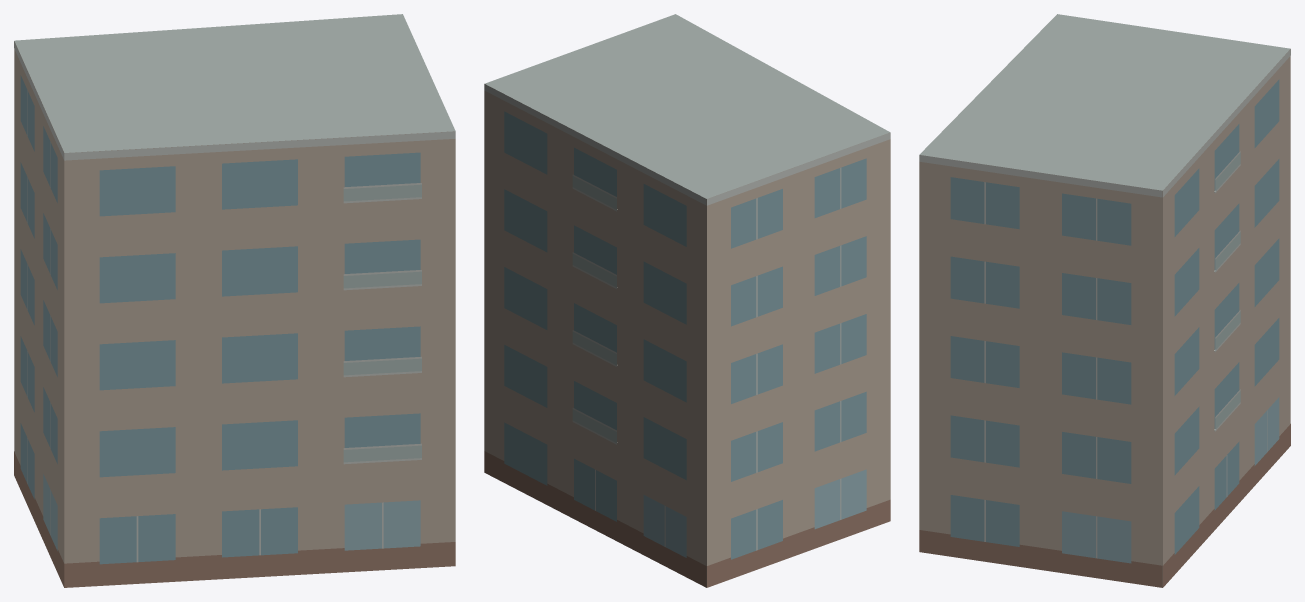
File: survey-upis-33016643.glb
The picture shows the model from 3 angles, left to right: view 1: azimuth 30°, elevation 25°; view 2: azimuth 150°, elevation 25°; view 3: azimuth 270°, elevation 25°; orthographic projection. The views are drawn at different scales.
Parts seen in each view (by area): view 1: survey-upis-33016643.tmp; view 2: survey-upis-33016643.tmp; view 3: survey-upis-33016643.tmp.
Boxes of the visible parts, left/top/right/bottom form: survey-upis-33016643.tmp: left=14, top=14, right=455, bottom=587; survey-upis-33016643.tmp: left=484, top=14, right=890, bottom=587; survey-upis-33016643.tmp: left=919, top=14, right=1290, bottom=587.
Size of the model in its own units: 13.46 by 14.1 by 11.96.
